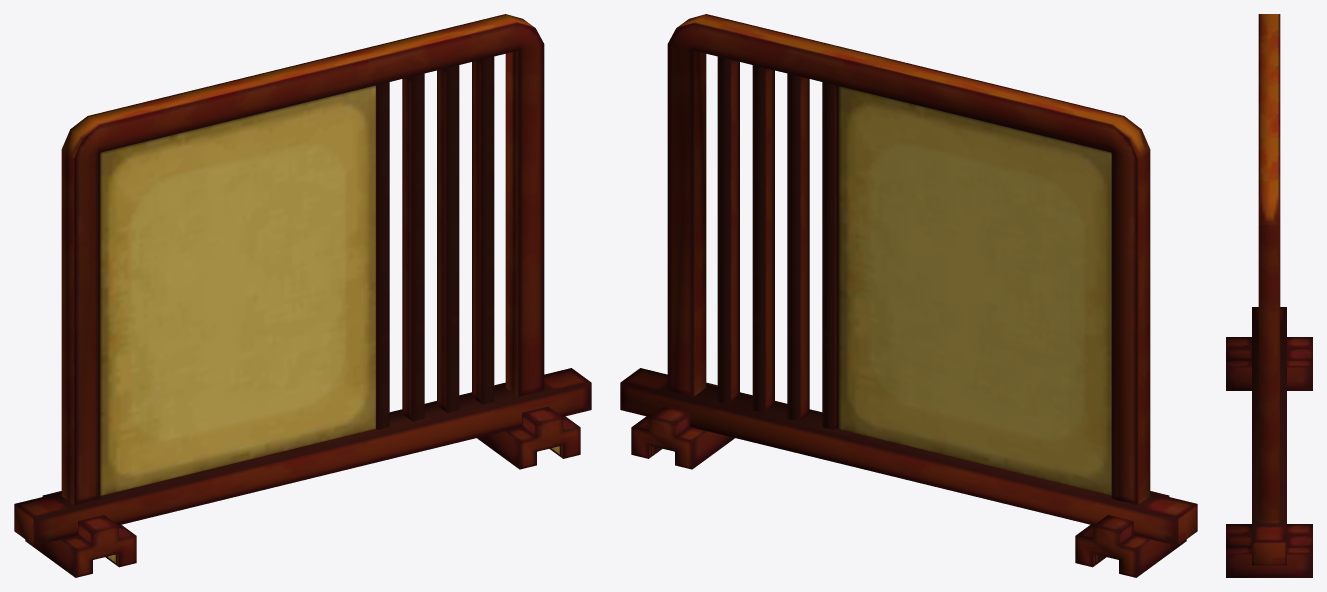
The model's file is int_oth_low_screen.dae.
3 views of the same model, side by side, from view 1: azimuth 30°, elevation 25°; view 2: azimuth 150°, elevation 25°; view 3: azimuth 270°, elevation 25° (orthographic). The views are drawn at different scales.
Parts seen in each view (by area): view 1: int_oth_low_screen; view 2: int_oth_low_screen; view 3: int_oth_low_screen.
Part boxes in pixels (x1,y1,x2,y2): int_oth_low_screen: [14, 14, 591, 577]; int_oth_low_screen: [620, 14, 1197, 577]; int_oth_low_screen: [1226, 14, 1312, 577].
Size of the model in its own units: 32 by 23.5 by 5.
1 material, 1 textured.
